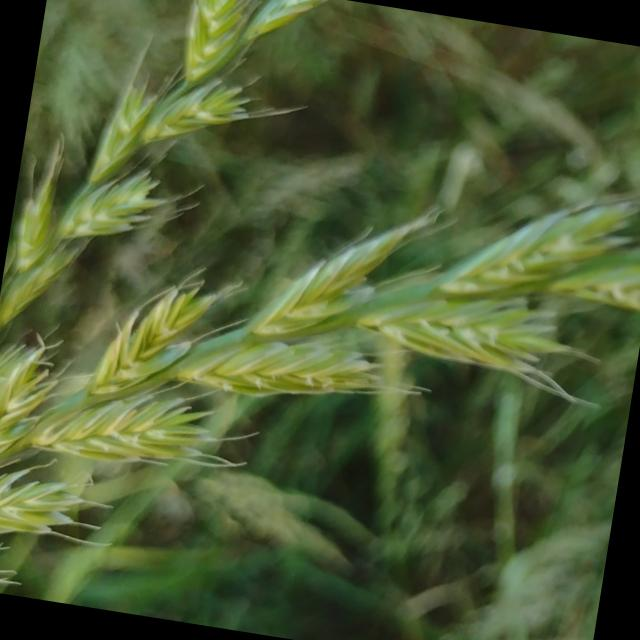Lolium: (0, 97, 640, 640), (0, 0, 324, 398)
